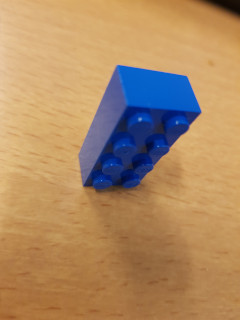2x4 blue: (76, 61, 206, 200)
